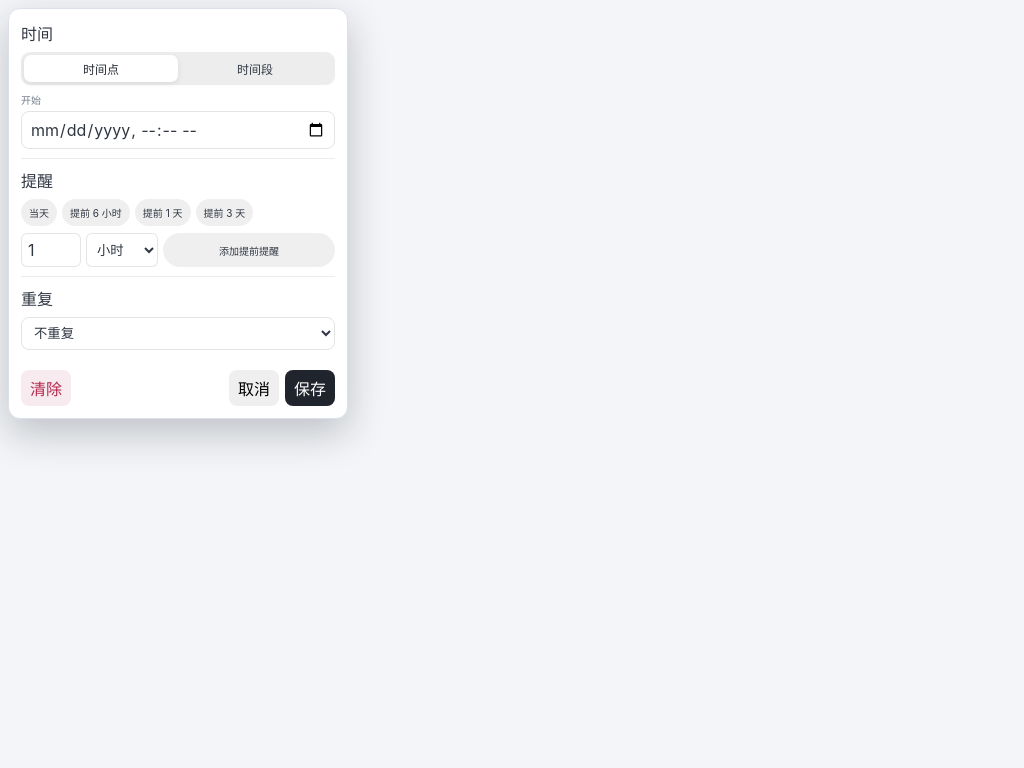
Scenario: TaskSchedulePopover › shows custom reminders as removable chips with duplicate feedback
The image size is (1024, 768).
Replace the text in the number field named "自定义提前数值" with "2": point(51, 250) [21, 233, 81, 267]
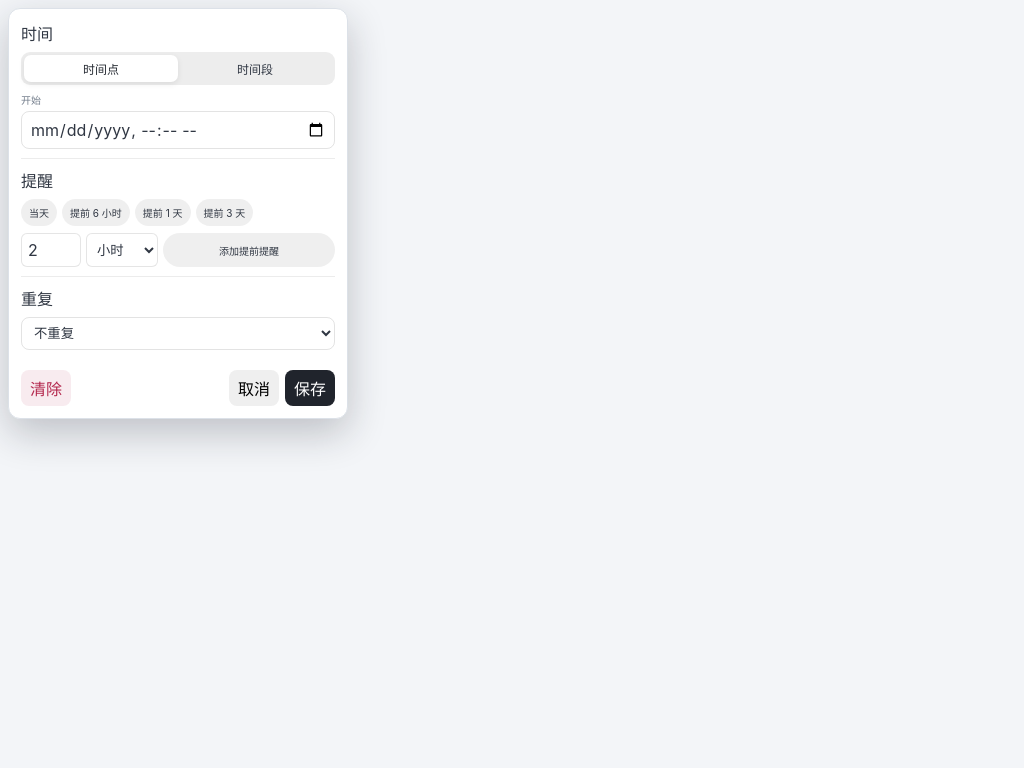
Click the button "添加提前提醒": point(249, 250) [163, 233, 335, 267]
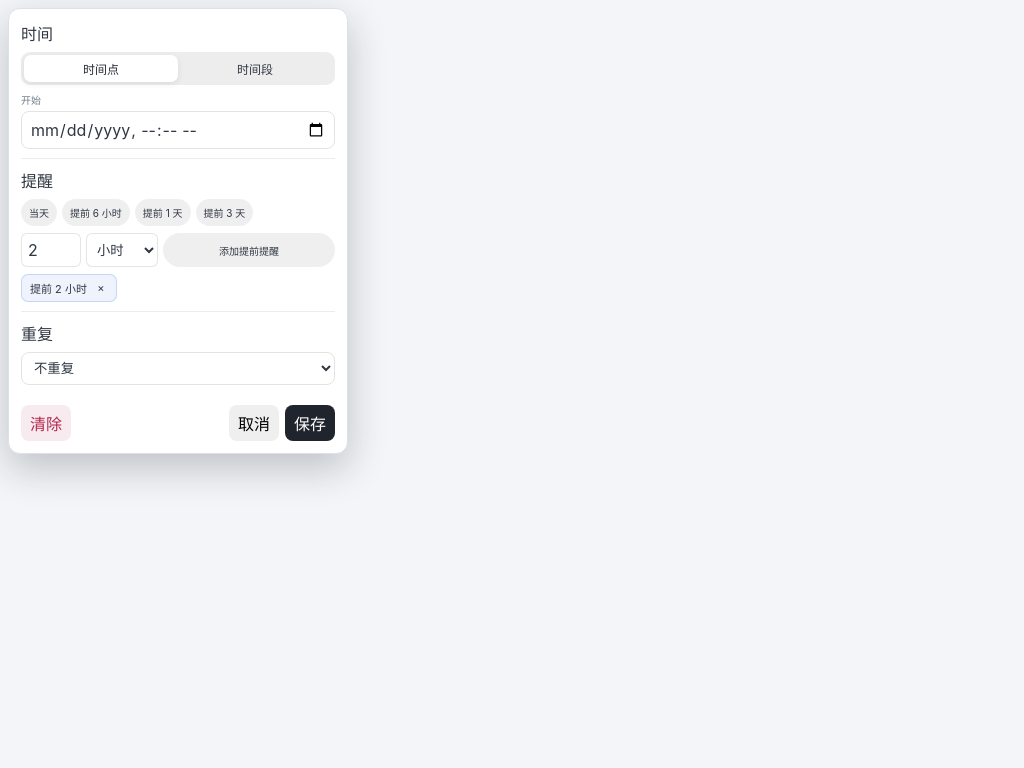
Expected: the text "提前 2 小时" is shown, [30, 282, 87, 296]
Click the button "添加提前提醒": point(249, 250) [163, 233, 335, 267]
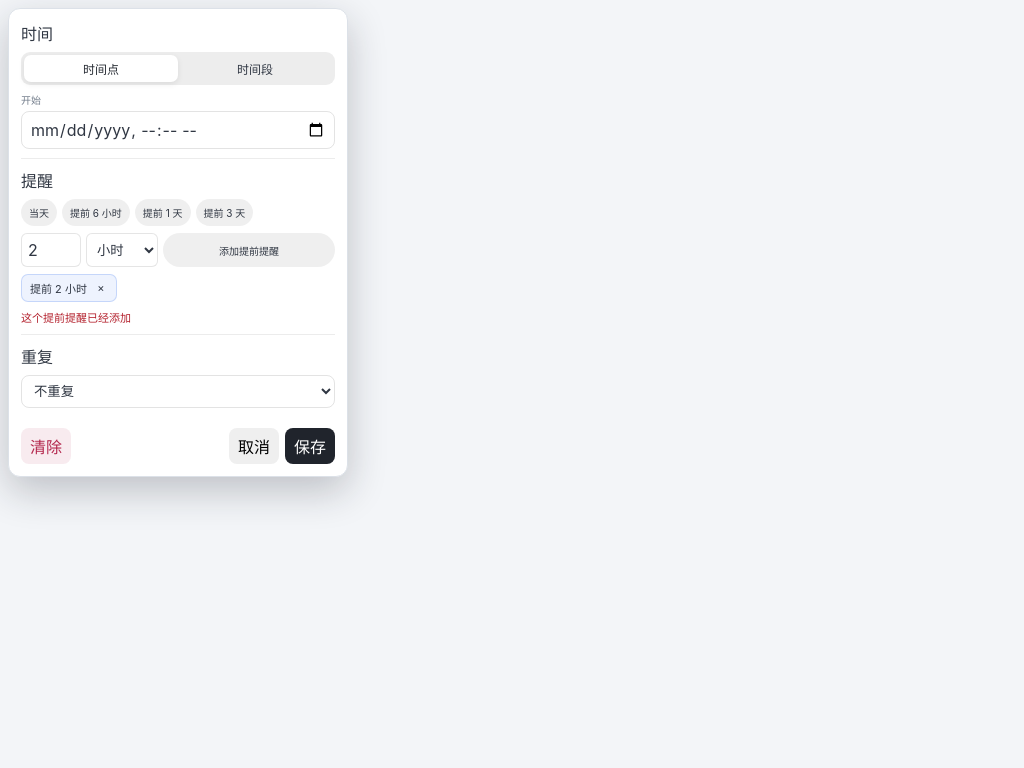
Expected: the text "这个提前提醒已经添加" is shown, [21, 311, 131, 325]
Click the button named "删除提前 2 小时": point(101, 288) [92, 279, 110, 297]
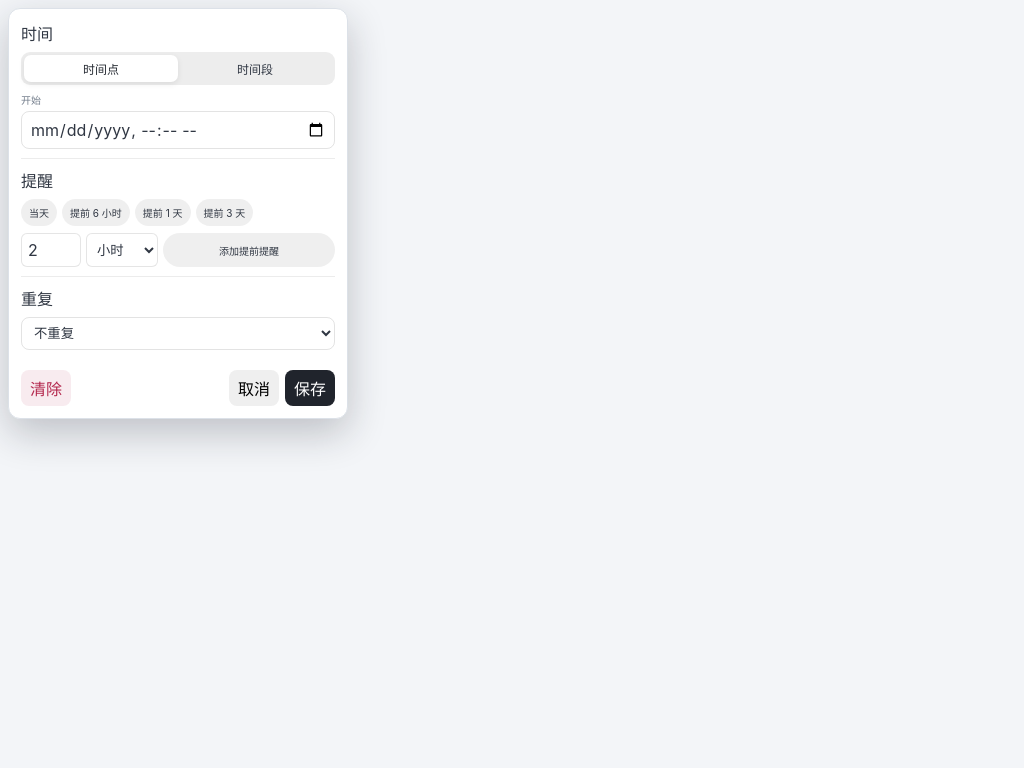
Expected: the text "提前 2 小时" is gone
